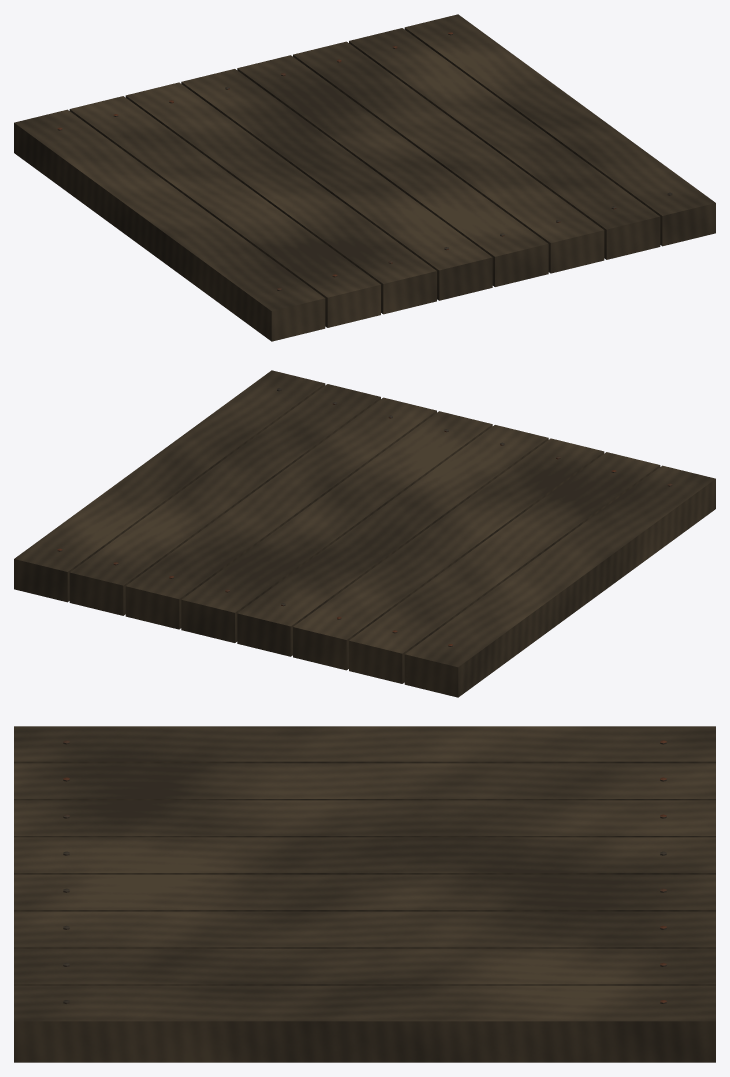
Rendered from Floor_Wood_2m.glb.
The picture shows the model from 3 angles, top to bottom: view 1: azimuth 30°, elevation 25°; view 2: azimuth 150°, elevation 25°; view 3: azimuth 270°, elevation 25°; orthographic projection. The views are drawn at different scales.
Parts seen in each view (by area): view 1: Floor_Wood_2m; view 2: Floor_Wood_2m; view 3: Floor_Wood_2m.
Boxes of the visible parts, box(x1,y1,x2,y2) form: Floor_Wood_2m: box(14, 14, 715, 341); Floor_Wood_2m: box(14, 370, 715, 697); Floor_Wood_2m: box(14, 726, 715, 1062).
Bounding box in the file's own units: 1.99 × 0.139 × 2.
2 materials, 2 textured.
